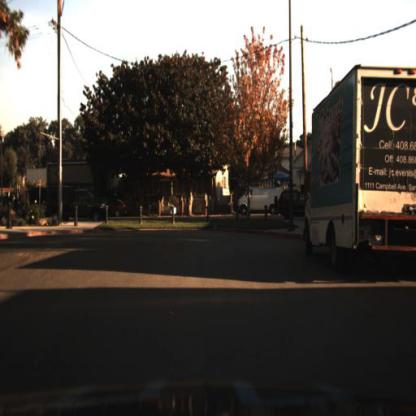car: (48, 181, 109, 230), (233, 183, 287, 214), (99, 196, 128, 220)
truck: (300, 57, 416, 259)
